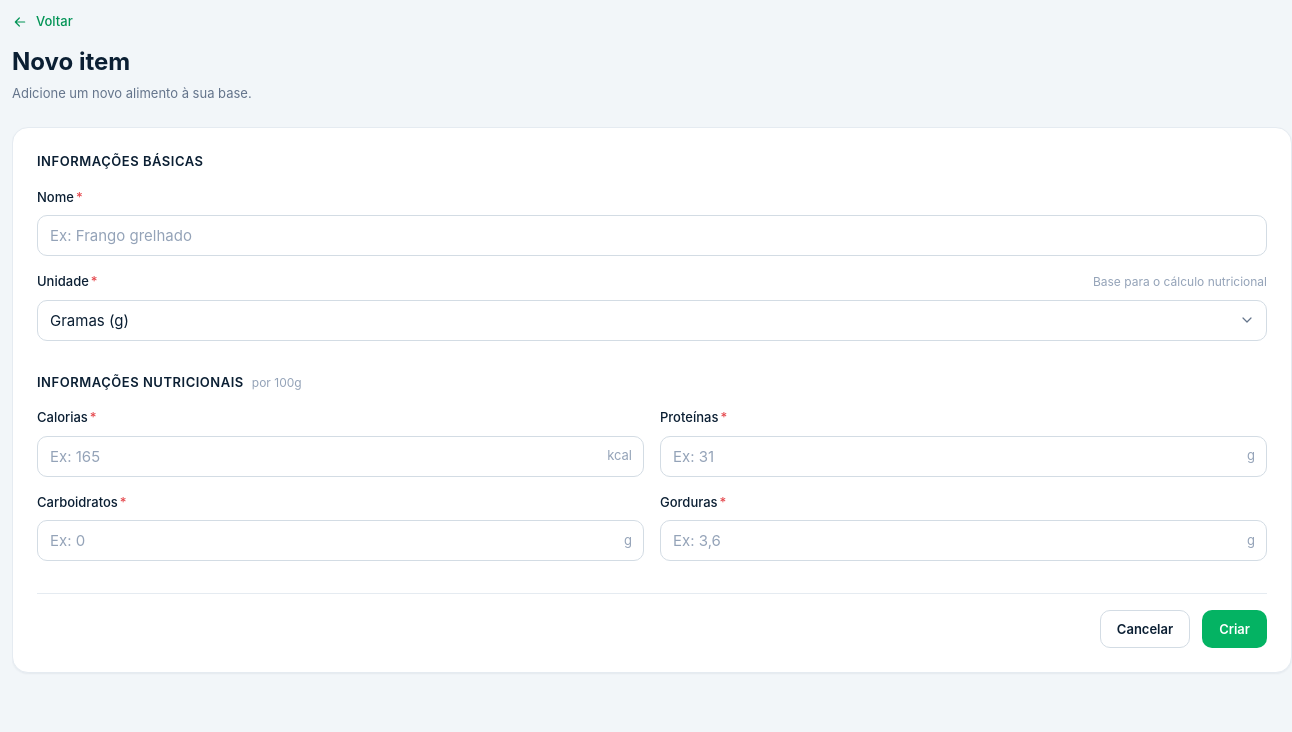
Test: ItemCreatePage › refuses a number left unfinished after the separator
Type "Rice" into the field labelled "Nome*" at (652, 236), box [37,215,1267,256]
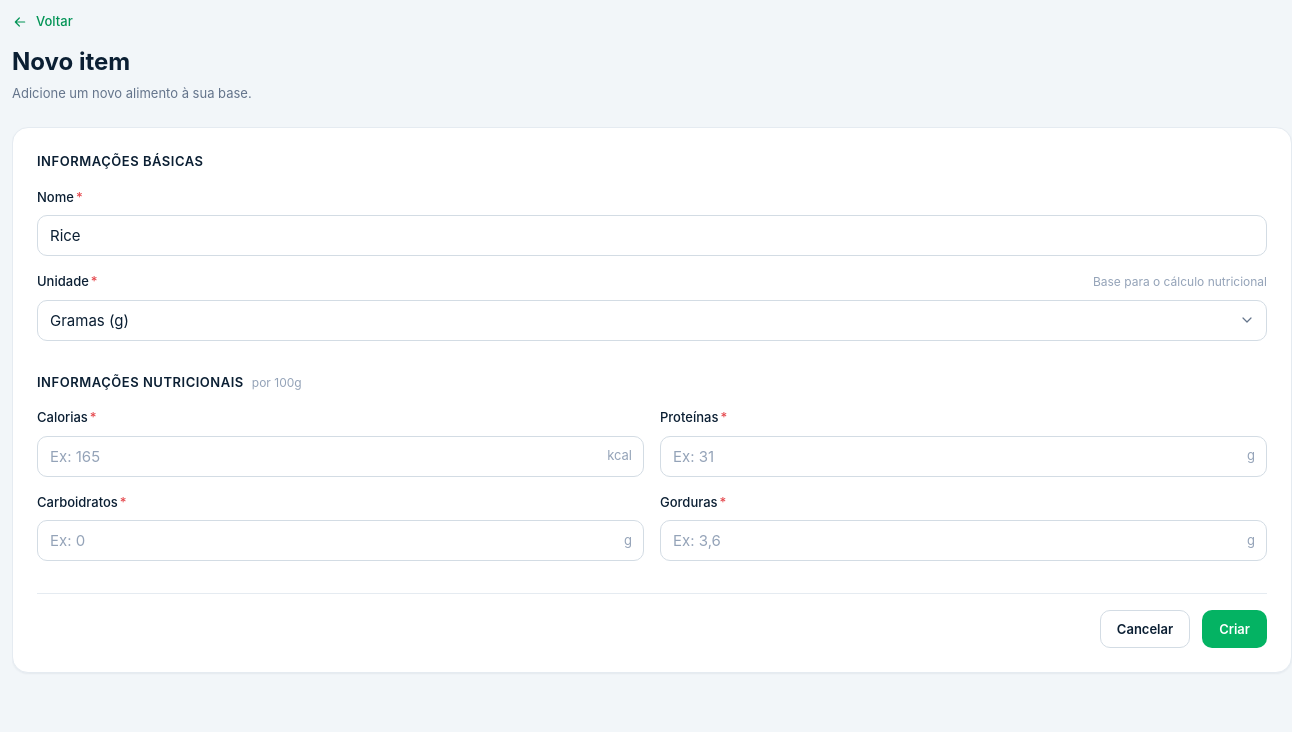
Type "130" into the field labelled "Calorias*" at (340, 456), box [37,436,644,476]
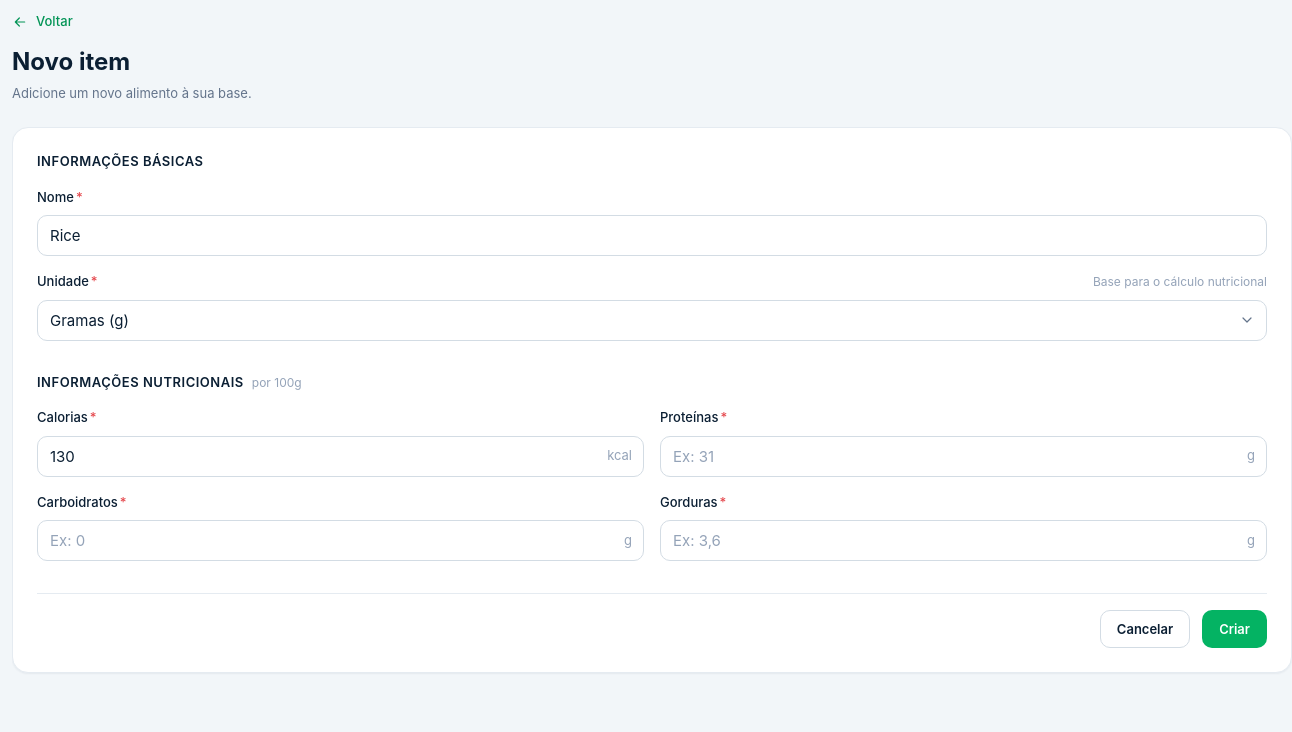
Type "2," into the field labelled "Proteínas*" at (964, 456), box [660,436,1267,476]
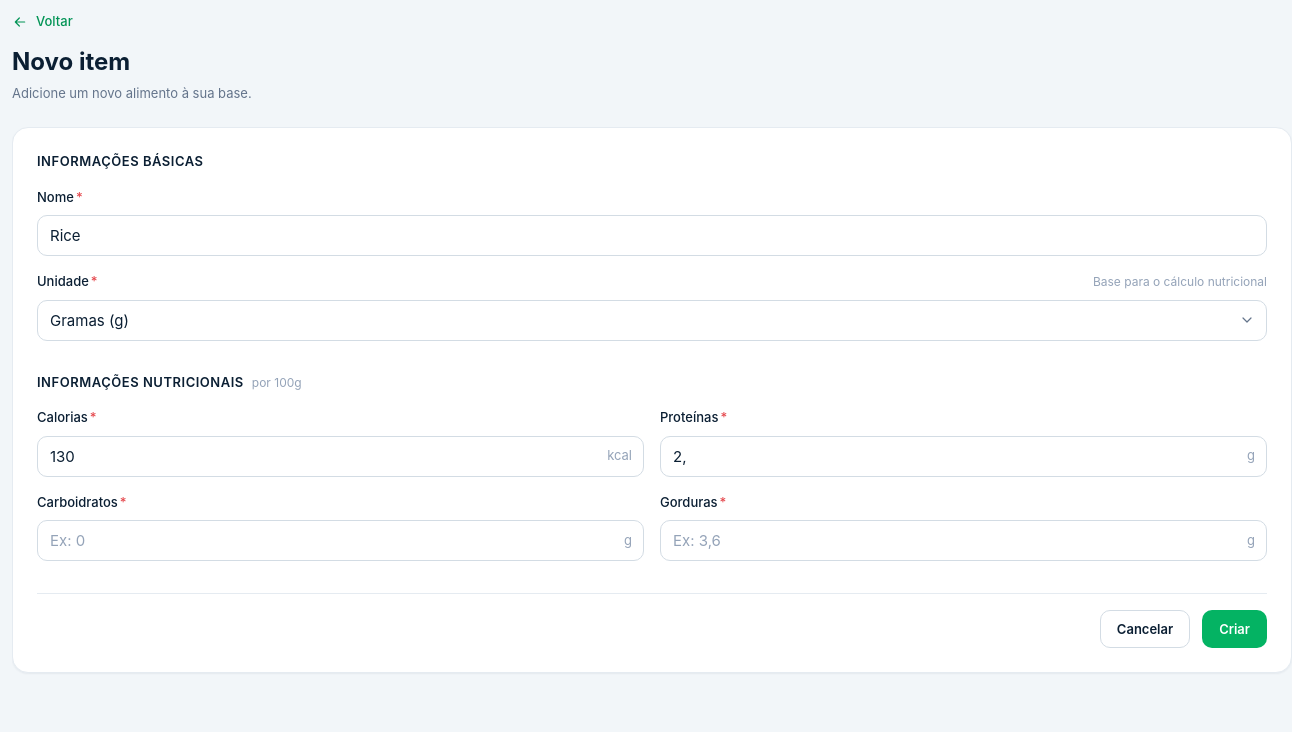
Type "28" into the field labelled "Carboidratos*" at (340, 540), box [37,520,644,561]
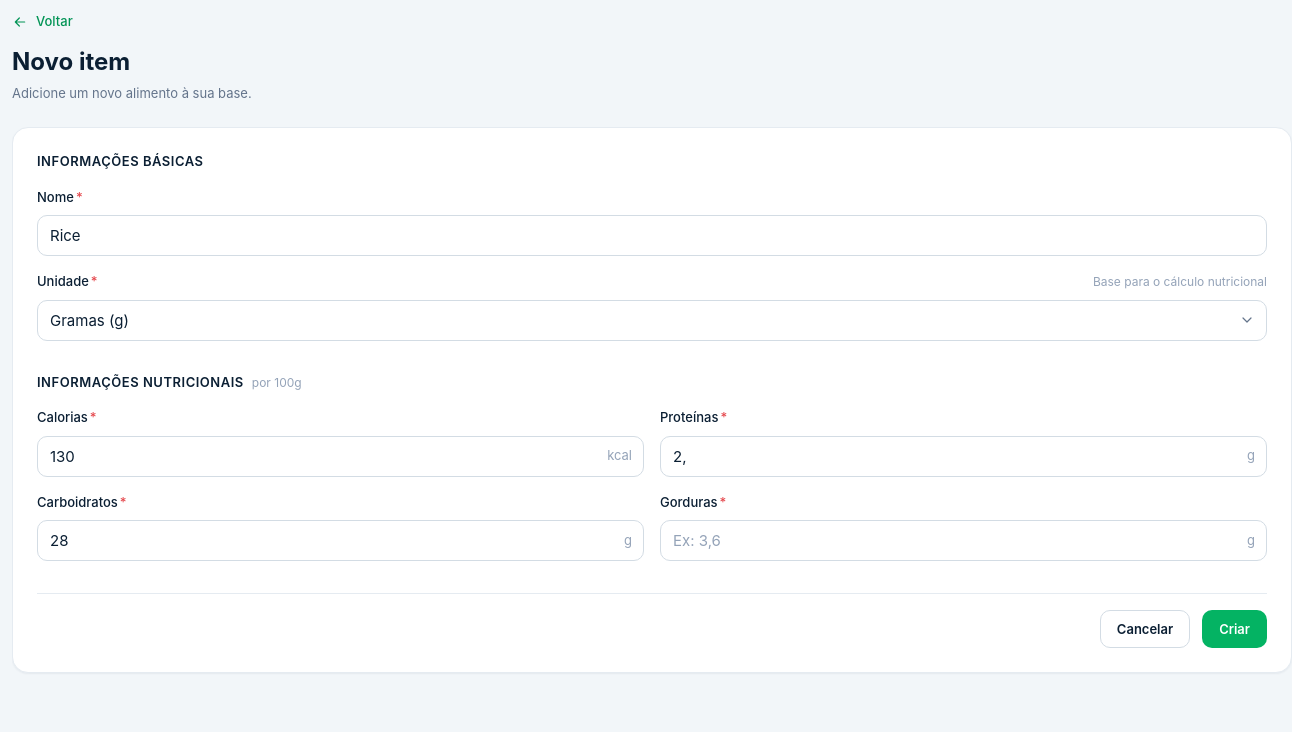
Type "0" into the field labelled "Gorduras*" at (964, 540), box [660,520,1267,561]
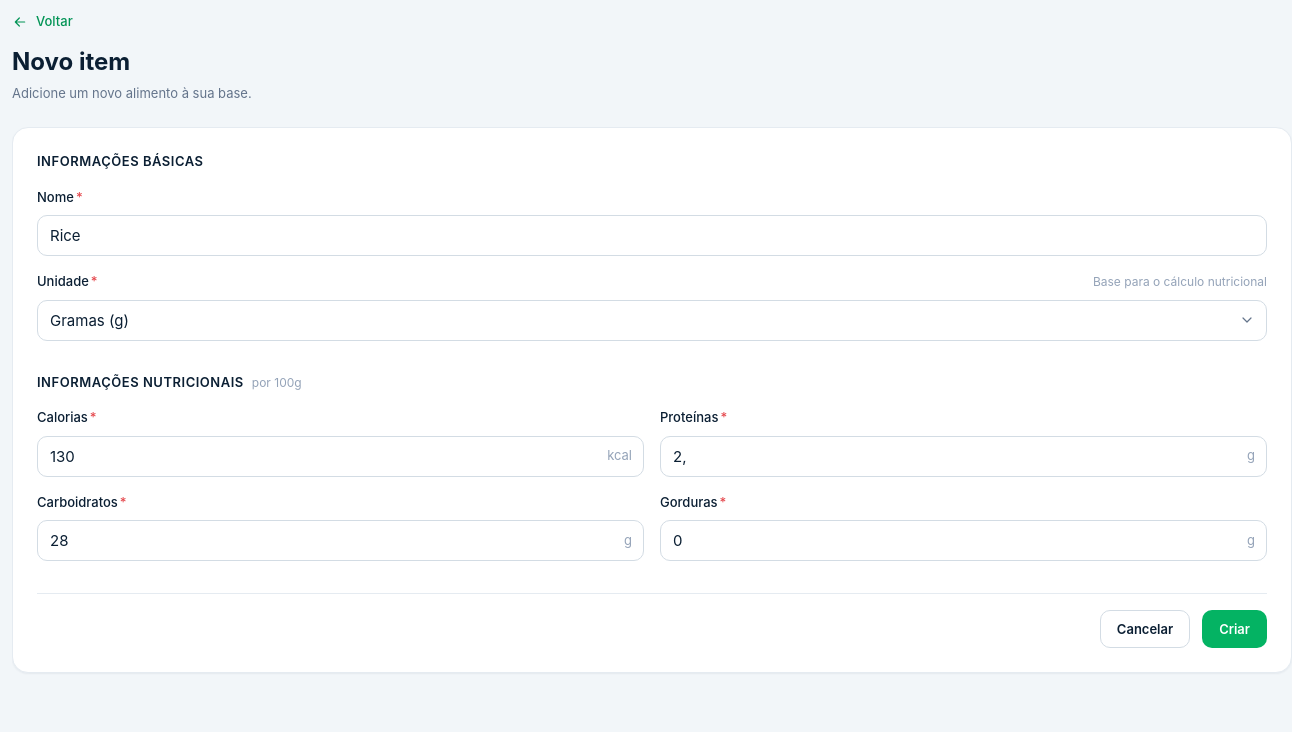
Click the button "Criar" at (1235, 629), box [1202,610,1267,648]
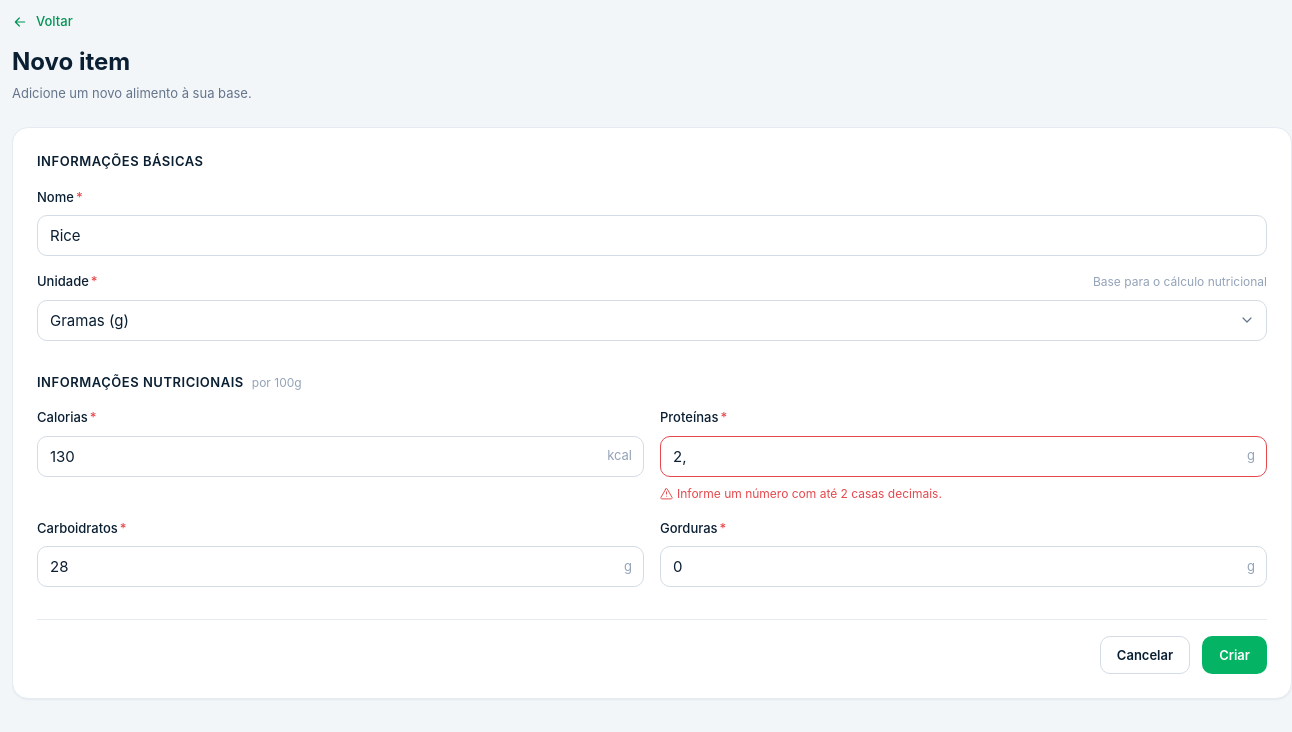
expect the text "Informe um número com até 2 casas decimais." is shown: met, box [660,486,942,500]
